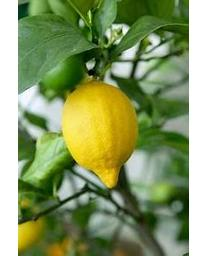lemon: (62, 82, 140, 188)
